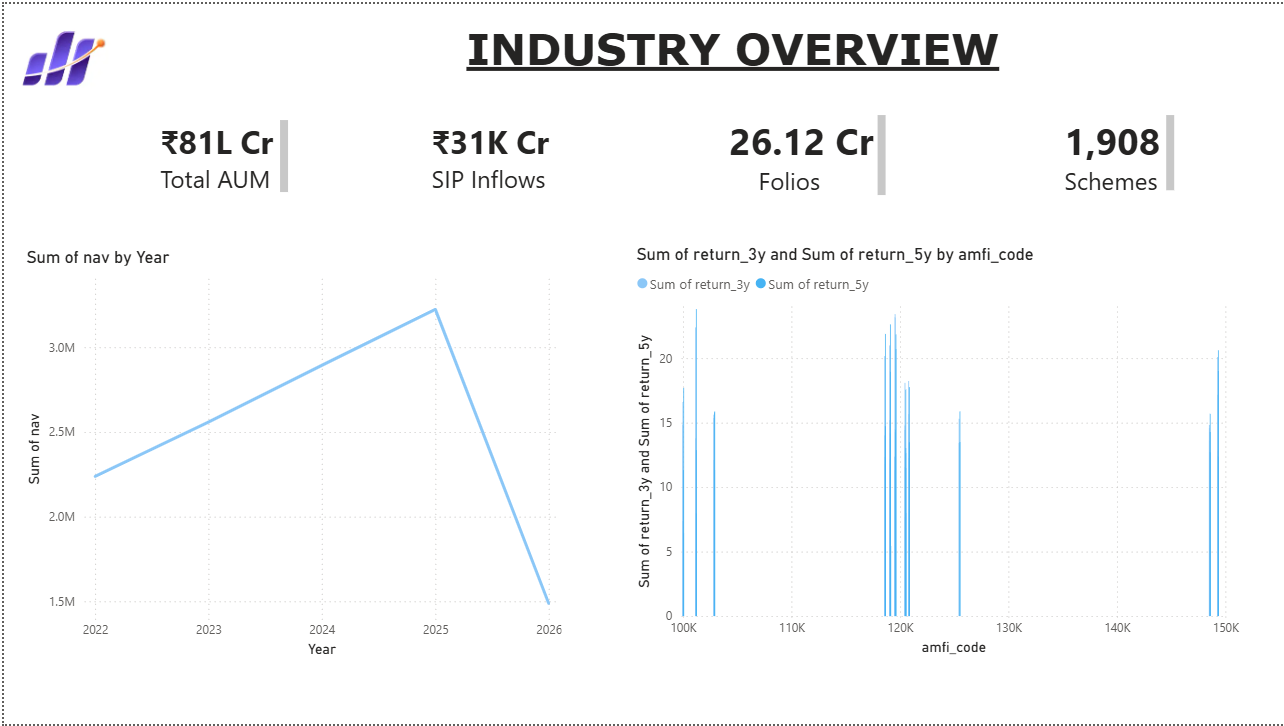

The dashboard page shown, as its layout file describes it:
{"tool":"powerbi","page":{"name":"Industry Overview","canvas":[1280,720],"ordinal":0},"visuals":[{"type":"image","box":[0,0,119.4,109.8],"z":0},{"type":"textbox","box":[151.6,111.3,138.2,83.2],"z":1000},{"type":"textbox","box":[421.9,12.2,612.6,79.5],"z":2000},{"type":"lineChart","fields":{"Category":["NAV_History.date.Variation.Date Hierarchy.Year","NAV_History.date.Variation.Date Hierarchy.Quarter","NAV_History.date.Variation.Date Hierarchy.Month","NAV_History.date.Variation.Date Hierarchy.Day"],"Y":["Sum(NAV_History.nav)"]},"box":[17.1,242.1,545.4,415.8],"z":3000},{"type":"clusteredColumnChart","fields":{"Category":["AMCs.amfi_code"],"Y":["Sum(Fund_Performance.return_3y)","Sum(Fund_Performance.return_5y)"]},"box":[627.3,239.7,613.9,415.8],"z":4000},{"type":"textbox","box":[421.9,111.3,130.8,85.6],"z":5000},{"type":"textbox","box":[720.2,106.4,166.3,90.5],"z":6000},{"type":"textbox","box":[1055.3,106.4,119.8,88],"z":7000}]}

Visuals, with their boxes in screenshot pixels (x1, y1, x2, y2), scaled from the page's 1280x720 canvas onto the 1284x726 screenshot:
image: left=0, top=0, right=120, bottom=111
textbox: left=152, top=112, right=291, bottom=196
textbox: left=423, top=12, right=1038, bottom=92
lineChart - NAV_History.date.Variation.Date Hierarchy.Year x NAV_History.date.Variation.Date Hierarchy.Quarter: left=17, top=244, right=564, bottom=663
clusteredColumnChart - AMCs.amfi_code x Sum(Fund_Performance.return_3y): left=629, top=242, right=1245, bottom=661
textbox: left=423, top=112, right=554, bottom=199
textbox: left=722, top=107, right=889, bottom=199
textbox: left=1059, top=107, right=1179, bottom=196
